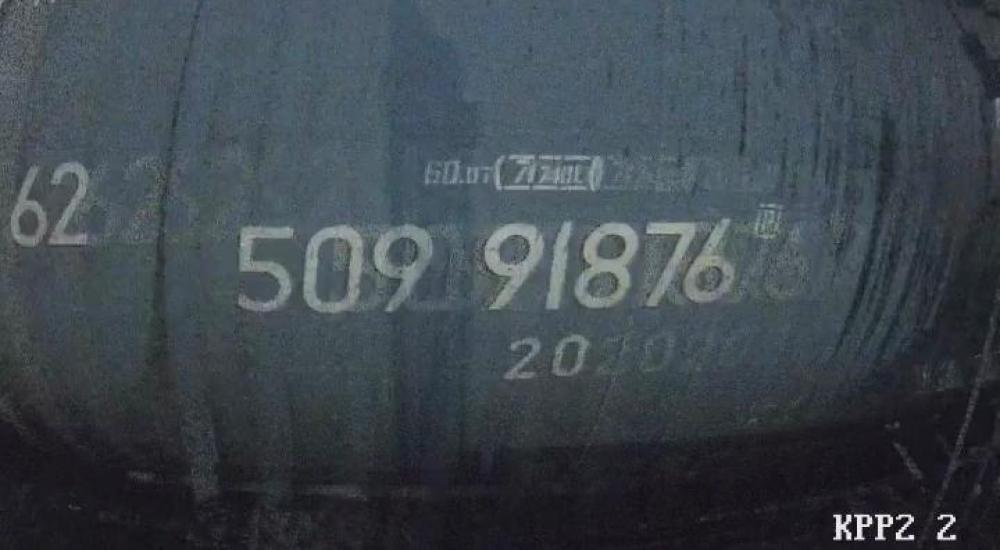Wagon-number: (229, 211, 740, 322)
